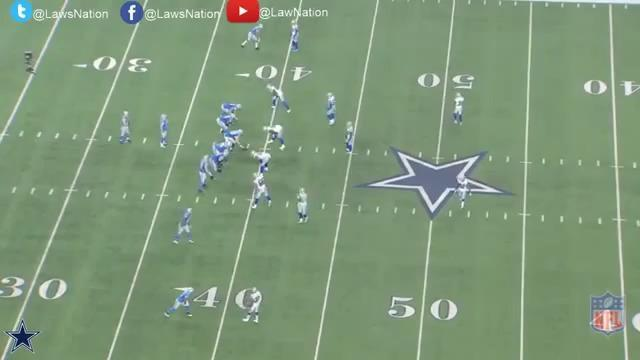defense: (250, 173, 273, 211), (240, 289, 263, 327), (451, 172, 473, 211), (266, 83, 292, 115), (263, 124, 288, 152), (294, 185, 309, 226), (252, 149, 273, 178), (450, 91, 466, 129), (343, 122, 358, 160), (323, 91, 337, 127), (287, 21, 301, 56)
oline: (208, 149, 228, 178), (223, 128, 246, 153), (216, 112, 237, 138), (218, 102, 241, 121), (210, 140, 232, 159)
qb: (156, 110, 170, 150)
skill: (163, 287, 196, 320), (172, 204, 195, 247), (196, 154, 215, 197), (240, 22, 265, 54), (119, 108, 136, 148)
